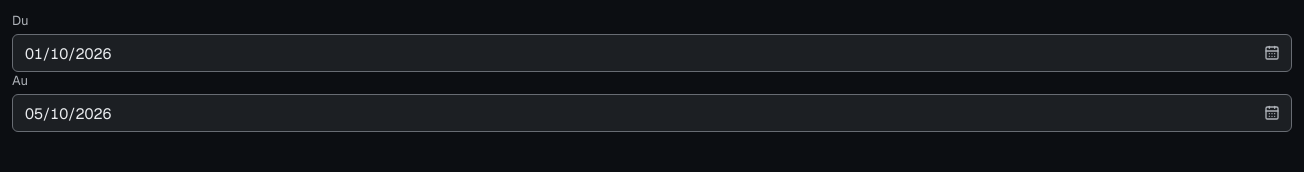
Test: DateRangePicker › raccourci : les deux bornes changent, un seul change ; « Au » ne précède jamais « Du »
This screenshot has width=1304, height=172.
Later steps or results of the test are not shown.
Replace the text in the field labelled "Du" with "10/10/2026". click: coordinates (652, 53)
box: [12,34,1292,72]
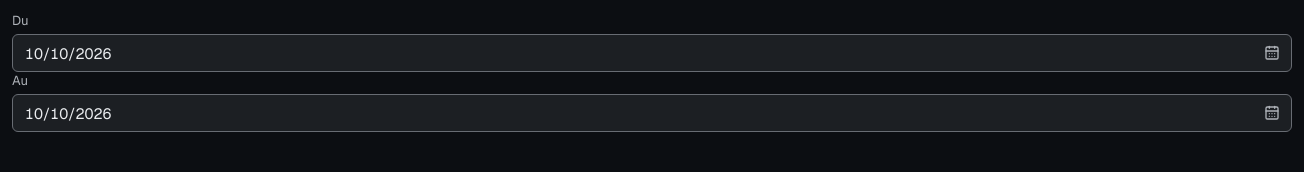
Result: the field labelled "Au" holds "10/10/2026" at [12,94,1292,132]
